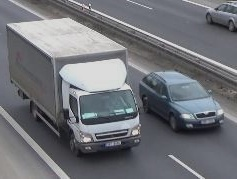truck: (7, 18, 140, 155)
